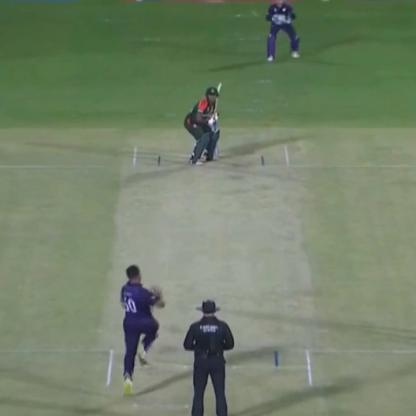bat: (204, 78, 226, 126)
pitch: (106, 136, 320, 402)
